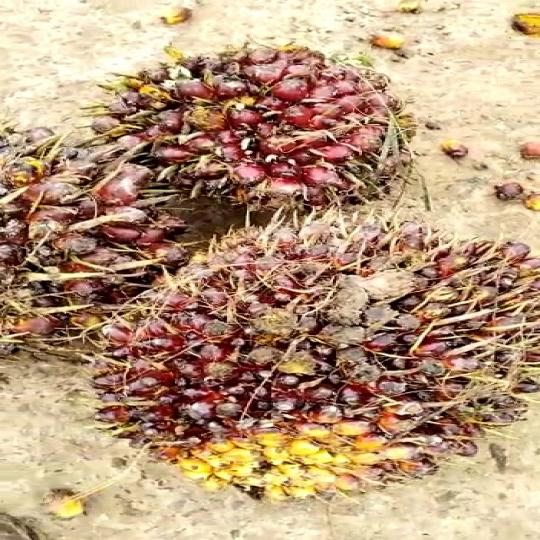kurang masak: (84, 210, 540, 518), (99, 36, 397, 211)
